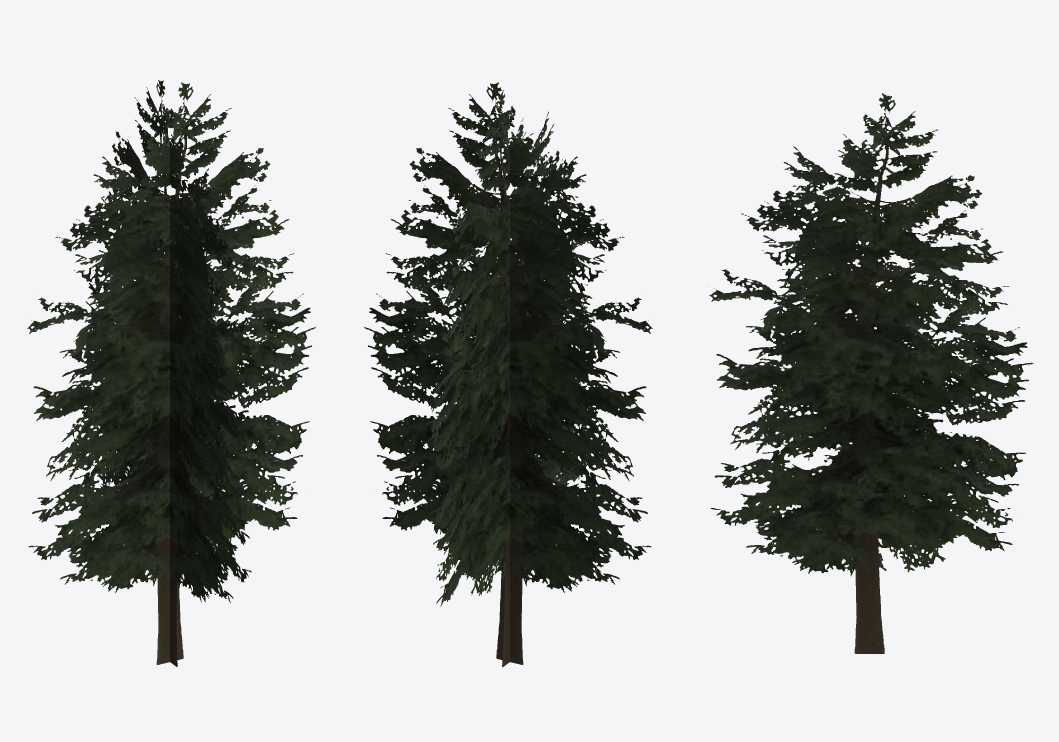
Rendered from baum_fichte_2_lod2.glb.
3 views of the same model, side by side, from view 1: azimuth 30°, elevation 25°; view 2: azimuth 150°, elevation 25°; view 3: azimuth 270°, elevation 25° (orthographic). The views are drawn at different scales.
Visible parts, largest first — view 1: Billboard; view 2: Billboard; view 3: Billboard.
Part boxes in pixels (<box>): Billboard: <box>27,80,315,666</box>; Billboard: <box>364,82,652,667</box>; Billboard: <box>709,93,1033,653</box>.
Size of the model in its own units: 9.53 by 17 by 9.53.
1 material, 1 textured.
